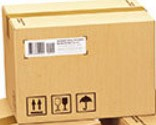stock: (4, 1, 156, 124)
